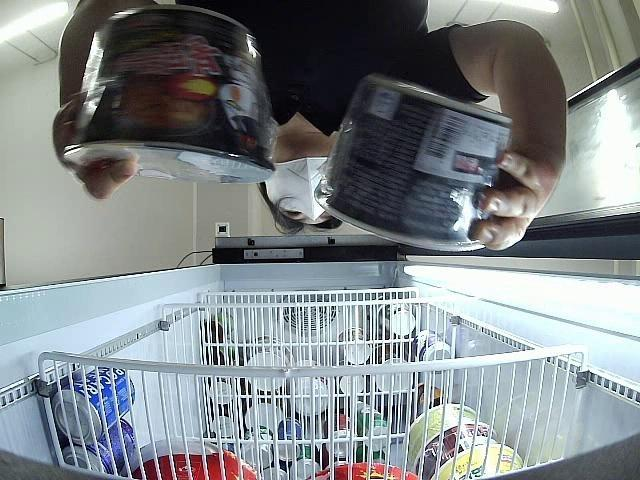07_buldak_L: (64, 6, 277, 185), (314, 74, 511, 252)
